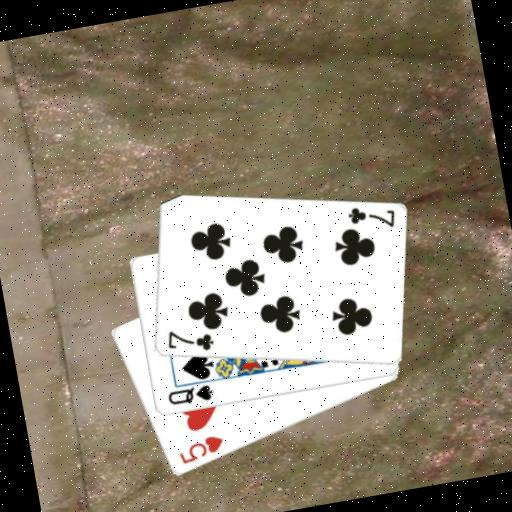5H: (173, 431, 227, 467)
7C: (343, 197, 399, 236), (161, 321, 216, 359)
QS: (163, 380, 216, 409)
